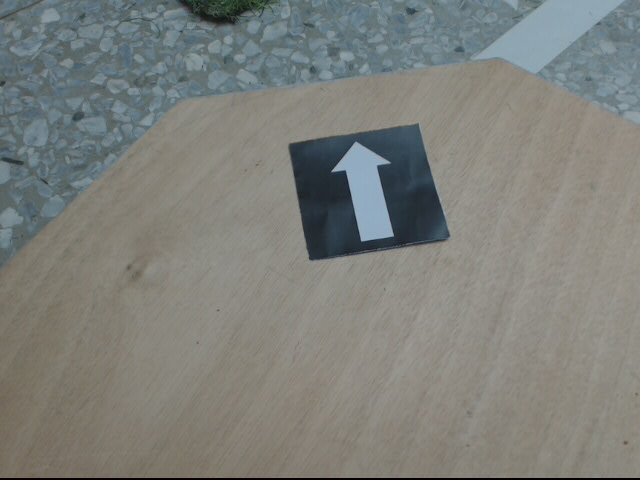straight: (288, 120, 449, 261)
